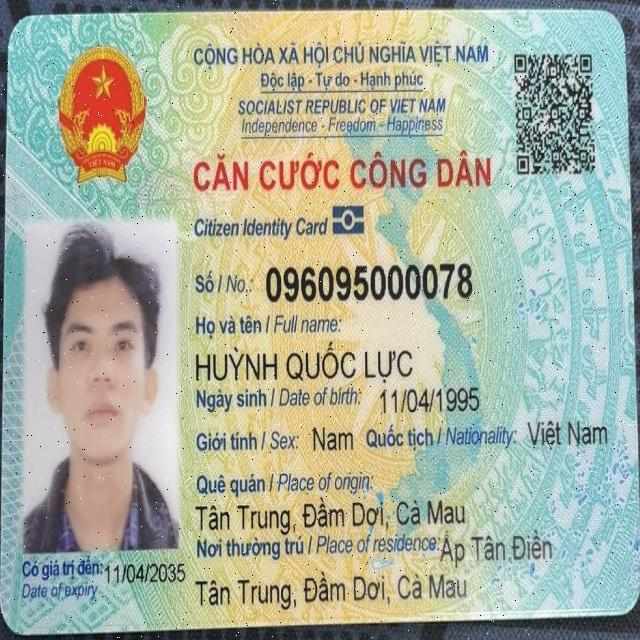current_place: (195, 564, 471, 611), (441, 529, 557, 564)
dob: (373, 383, 483, 416)
expire_date: (103, 557, 187, 593)
gender: (308, 422, 360, 455)
id: (260, 257, 478, 304)
name: (189, 342, 418, 382)
nationality: (522, 408, 616, 454)
origin_place: (191, 498, 465, 536)
qr: (510, 43, 600, 182)
